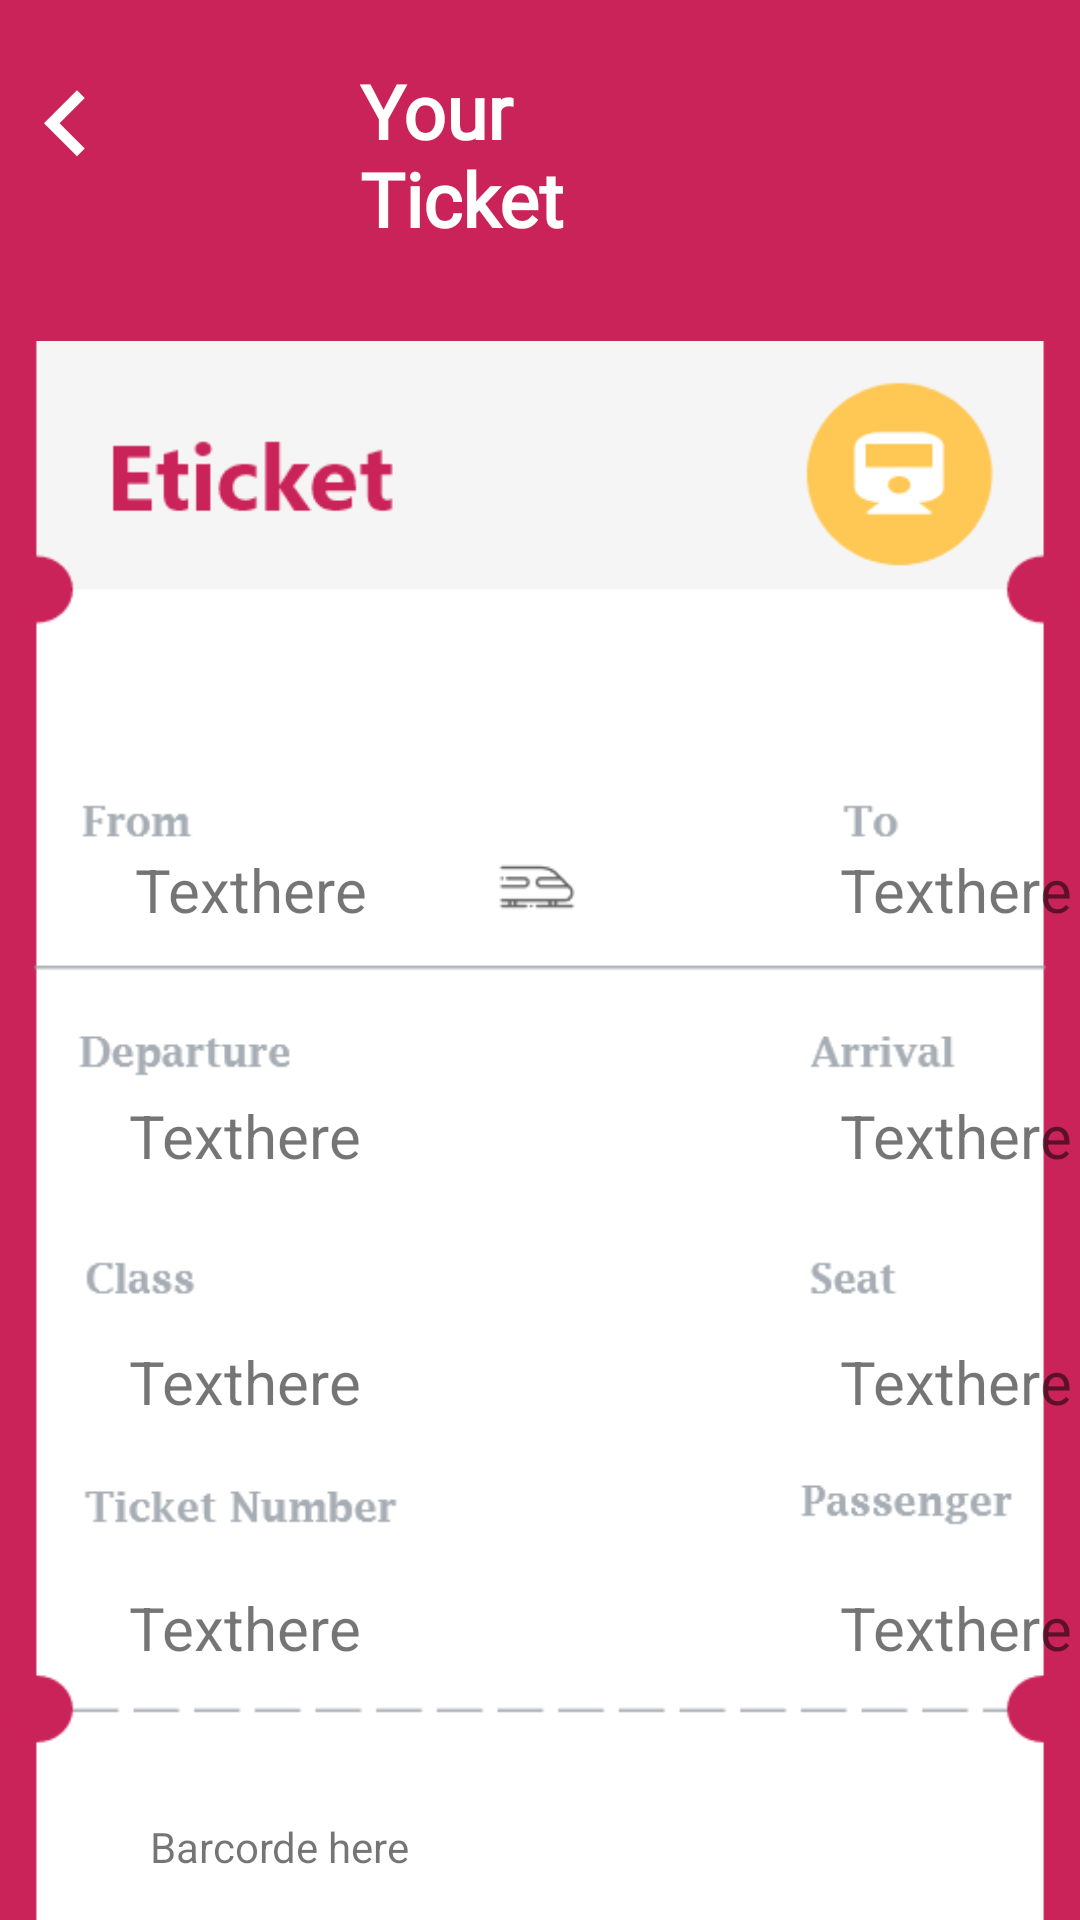

Icon click points for this 1080px x 1920px phone screenshot, format (x,y):
keyboard arrow left: (64,123)
